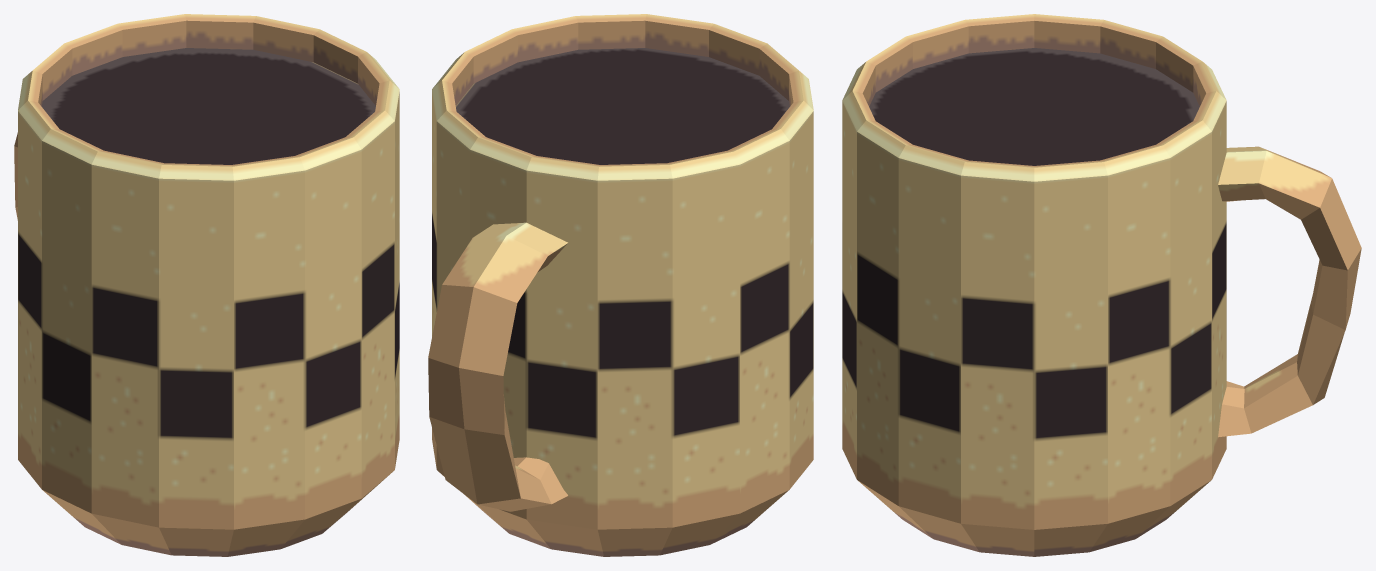
The model's file is coffee_mug.glb.
3 views of the same model, side by side, from view 1: azimuth 30°, elevation 25°; view 2: azimuth 150°, elevation 25°; view 3: azimuth 270°, elevation 25° (orthographic).
Parts seen in each view (by area): view 1: Coffee; view 2: Coffee; view 3: Coffee.
Boxes of the visible parts, box(x1,y1,x2,y2) form: Coffee: box(14, 14, 399, 556); Coffee: box(428, 14, 813, 556); Coffee: box(842, 14, 1361, 556).
Bounding box in the file's own units: 2.15 × 2.5 × 2.91.
1 material, 1 textured.
